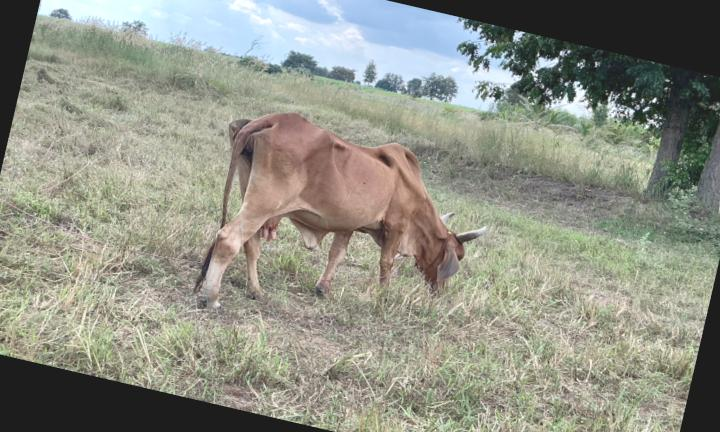Brahman: (195, 113, 486, 309)
